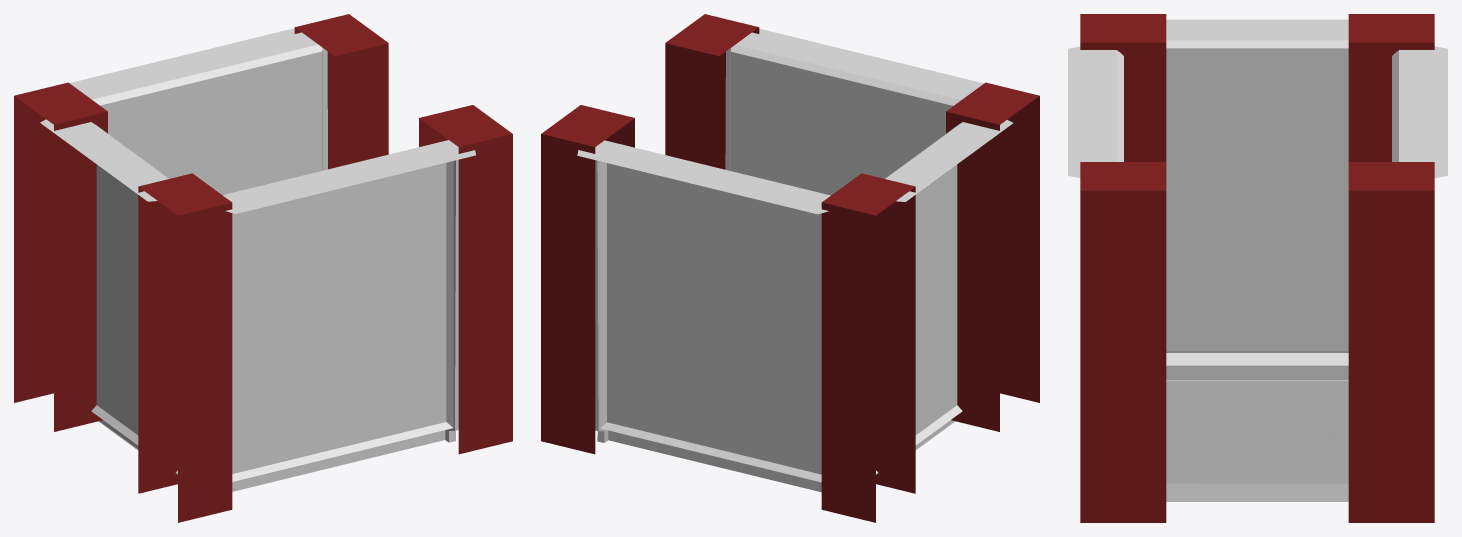
The model's file is Elevator.fbx.
3 renders of one model, left to right at view 1: azimuth 30°, elevation 25°; view 2: azimuth 150°, elevation 25°; view 3: azimuth 270°, elevation 25°, orthographic. The views are drawn at different scales.
Visible parts, largest first — view 1: polySurface820; view 2: polySurface820; view 3: polySurface820.
Part boxes in pixels (box(x1,y1,x2,y2)): polySurface820: box(14, 14, 512, 522); polySurface820: box(541, 14, 1039, 522); polySurface820: box(1068, 14, 1447, 522).
Size of the model in its own units: 4.01 by 3.57 by 3.62.
